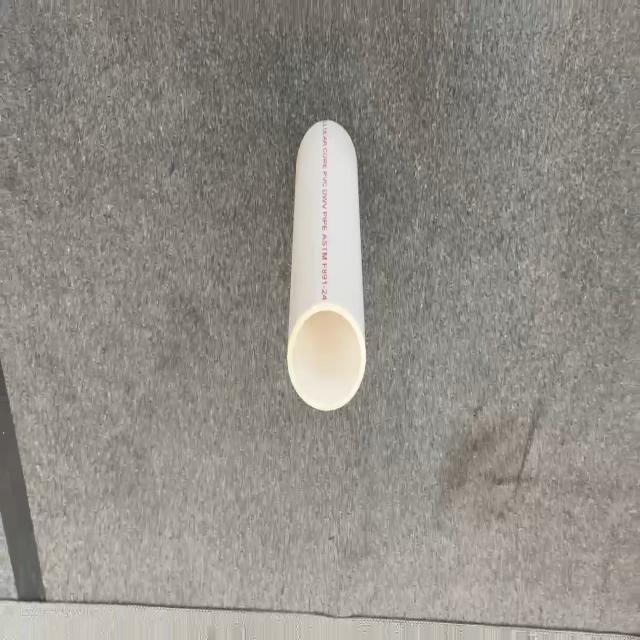coral: (286, 118, 367, 412)
